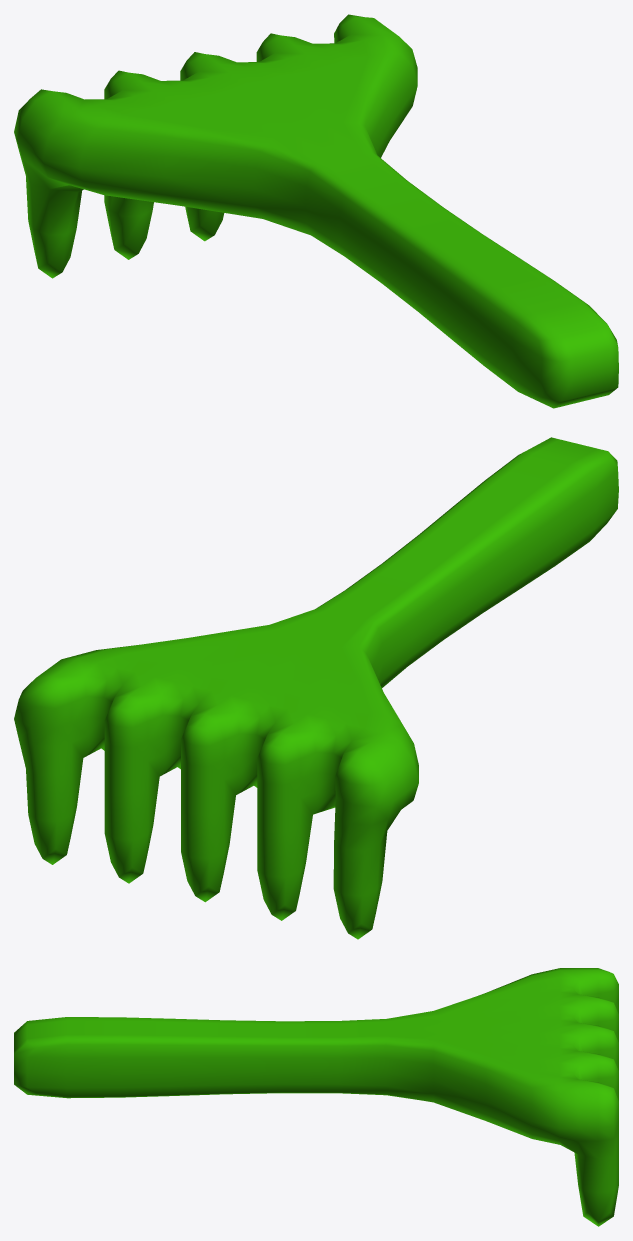
File: Rake2.fbx
3 renders of one model, top to bottom at view 1: azimuth 30°, elevation 25°; view 2: azimuth 150°, elevation 25°; view 3: azimuth 270°, elevation 25°, orthographic. The views are drawn at different scales.
Parts seen in each view (by area): view 1: pCube1; view 2: pCube1; view 3: pCube1.
Part boxes in pixels (x1,y1,x2,y2): pCube1: (14, 14, 618, 408); pCube1: (14, 437, 618, 939); pCube1: (14, 968, 618, 1226).
Bounding box in the file's own units: 4.98 × 2.38 × 9.12.
